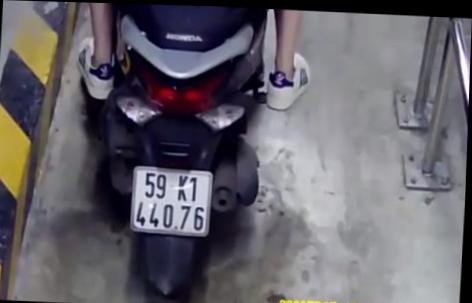LP: (130, 163, 216, 238)
